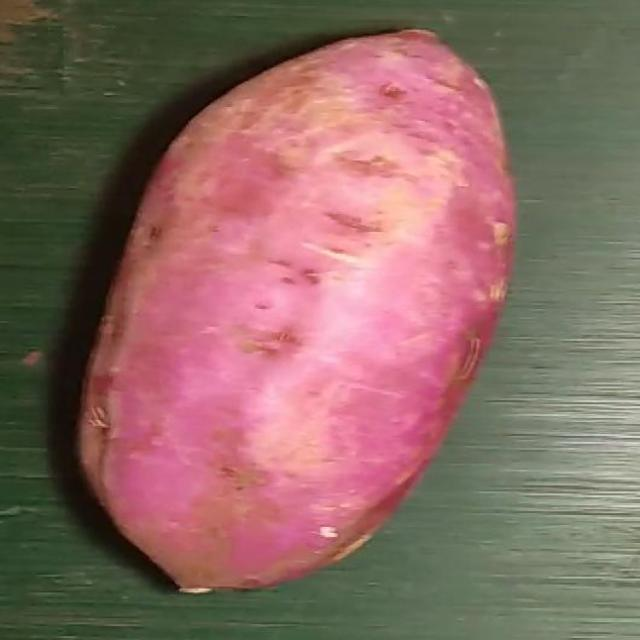Sweet Potato: (76, 28, 518, 595)
